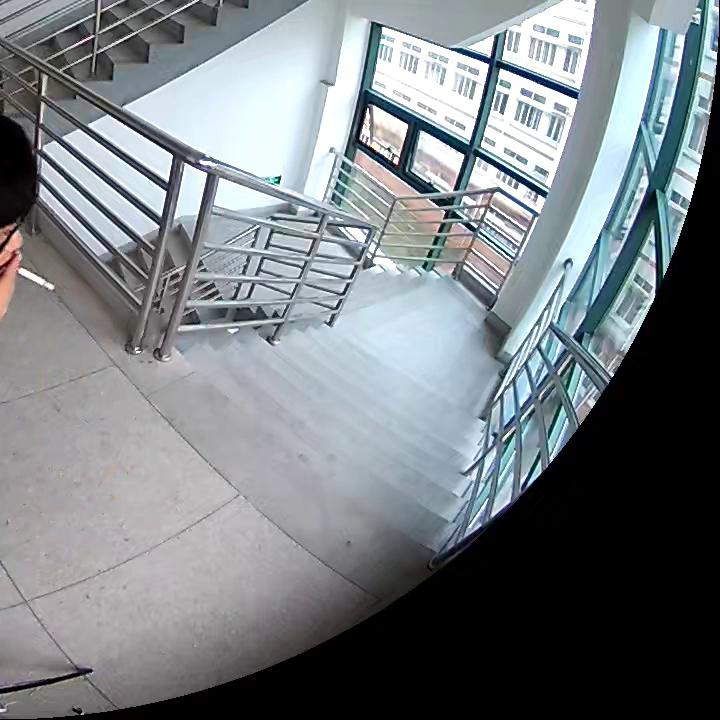mouthsmoke: (2, 119, 56, 324)
